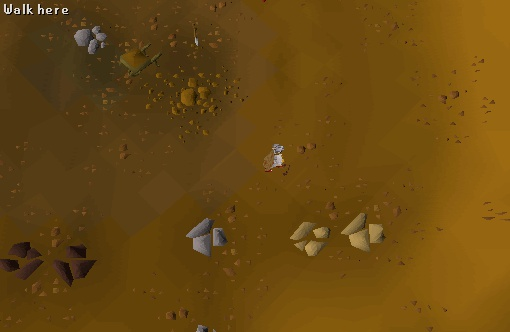clay: (279, 213, 338, 266), (339, 206, 393, 262)
iron: (46, 237, 98, 291)
tin: (179, 212, 239, 265), (69, 19, 119, 61)
